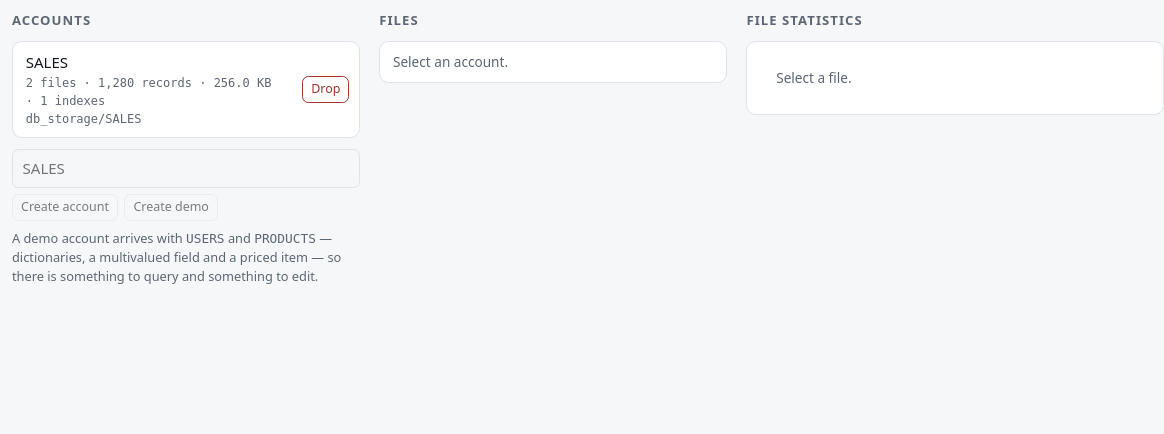
Scenario: the accounts view › marks the queue files in the listing
Click the button with class "select": point(154, 90) [13,42,296,137]
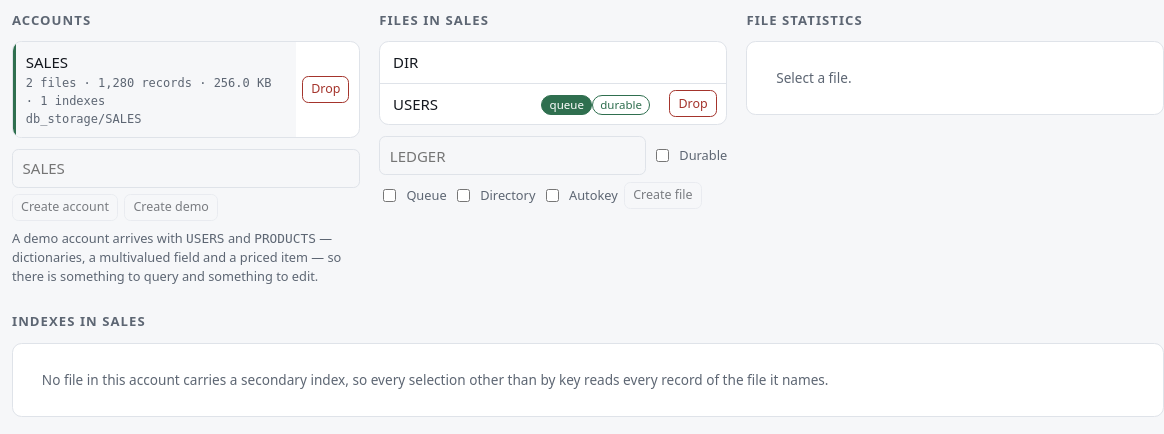
Expected: the list item does not show "queue"
Now the list item "USERS queue durable Drop" is shown, box [380,84,726,124]
